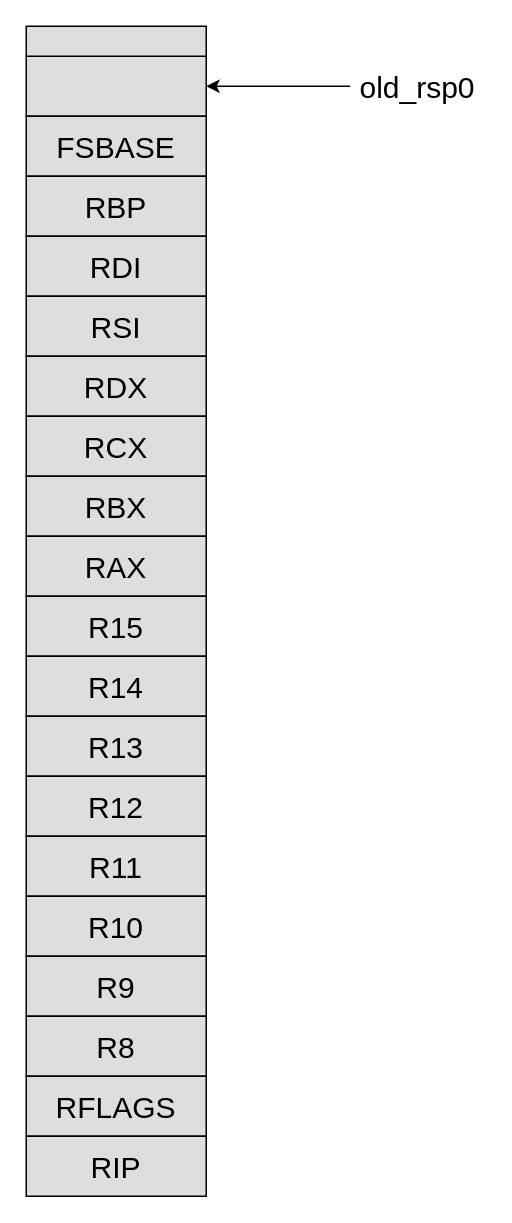
Image size: 512x1223. Some labels were removed from this diagram. The box of each missing label's shape, as (x1, y1, x2, y2) in pixels:
GSBASE: (25, 55, 206, 116)
Stack: (25, 25, 206, 56)
